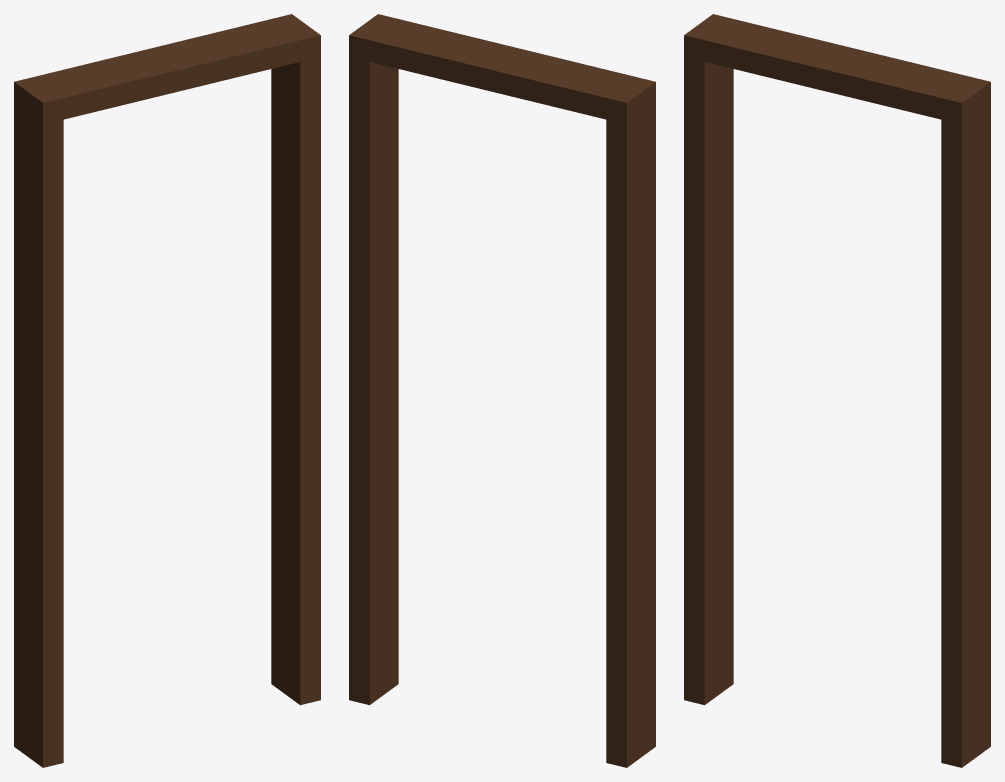
Rendered from door-frame.obj.
3 renders of one model, left to right at view 1: azimuth 30°, elevation 25°; view 2: azimuth 150°, elevation 25°; view 3: azimuth 330°, elevation 25°, orthographic.
Visible parts, largest first — view 1: door-frame_0, door-frame_1, door-frame_2; view 2: door-frame_0, door-frame_1, door-frame_2; view 3: door-frame_1, door-frame_0, door-frame_2.
Part boxes in pixels (box(x1,y1,x2,y2)): door-frame_0: box(14, 97, 63, 767); door-frame_1: box(271, 51, 320, 705); door-frame_2: box(14, 14, 320, 121); door-frame_0: box(606, 97, 655, 767); door-frame_1: box(349, 51, 398, 705); door-frame_2: box(349, 14, 655, 122); door-frame_1: box(941, 97, 990, 767); door-frame_0: box(684, 51, 733, 705); door-frame_2: box(684, 14, 990, 122).
Bounding box in the file's own units: 0.94 × 2.15 × 0.17.
